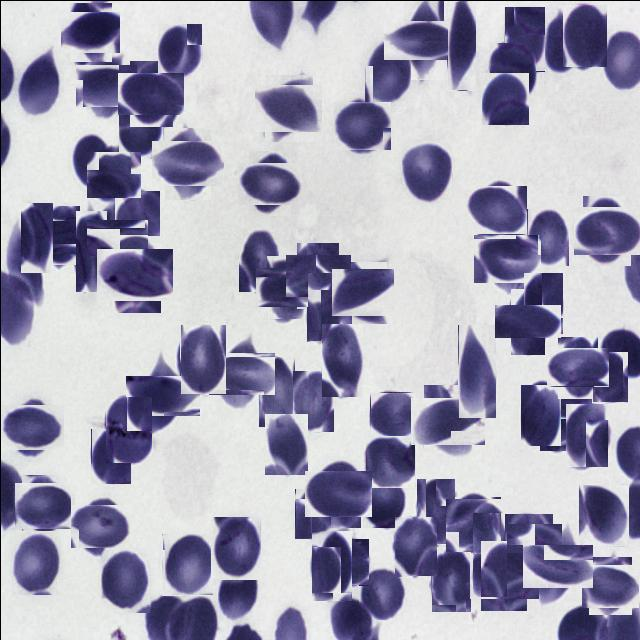red blood cell: (102, 242, 166, 306), (417, 391, 478, 452), (457, 324, 495, 418), (393, 10, 453, 69), (576, 200, 636, 259), (477, 229, 535, 287), (158, 134, 216, 192), (134, 366, 192, 424), (308, 464, 366, 522), (499, 518, 557, 576), (474, 546, 532, 604), (260, 78, 316, 136), (179, 324, 225, 394), (529, 538, 586, 594), (100, 547, 149, 612), (577, 484, 628, 546), (161, 533, 212, 595), (401, 139, 451, 202), (104, 396, 151, 463), (11, 530, 60, 594), (334, 264, 390, 320), (306, 272, 351, 341), (210, 516, 260, 578), (446, 497, 502, 552), (467, 181, 522, 236), (5, 221, 42, 302), (321, 323, 362, 396), (364, 40, 410, 105), (123, 66, 178, 120), (4, 400, 58, 454), (242, 156, 296, 210), (214, 346, 268, 400), (290, 248, 344, 302), (310, 530, 351, 601), (472, 512, 506, 596), (335, 99, 388, 152), (18, 478, 70, 532), (79, 58, 131, 112), (537, 395, 589, 448), (564, 403, 607, 467), (562, 4, 606, 66), (118, 97, 162, 158), (503, 6, 544, 71), (156, 23, 201, 82), (74, 500, 126, 551), (16, 50, 58, 113), (430, 546, 470, 612), (264, 413, 307, 474), (260, 261, 311, 312), (358, 564, 406, 618), (76, 210, 108, 291), (446, 1, 475, 90), (65, 6, 115, 57), (88, 148, 138, 199), (552, 342, 603, 392), (489, 42, 535, 97), (238, 228, 278, 291), (258, 356, 294, 426), (416, 478, 454, 544), (292, 370, 333, 431), (584, 560, 634, 610), (364, 436, 414, 486), (502, 296, 552, 346), (482, 72, 530, 124), (522, 272, 562, 334), (394, 516, 436, 575), (218, 564, 262, 620), (520, 384, 560, 445), (526, 208, 568, 266), (114, 190, 159, 244), (92, 213, 141, 262), (362, 476, 408, 527), (36, 210, 84, 258), (20, 202, 52, 272), (90, 428, 130, 483), (73, 132, 112, 187), (322, 538, 368, 584), (370, 392, 414, 436), (591, 351, 627, 402), (294, 488, 330, 538), (545, 15, 574, 72)
